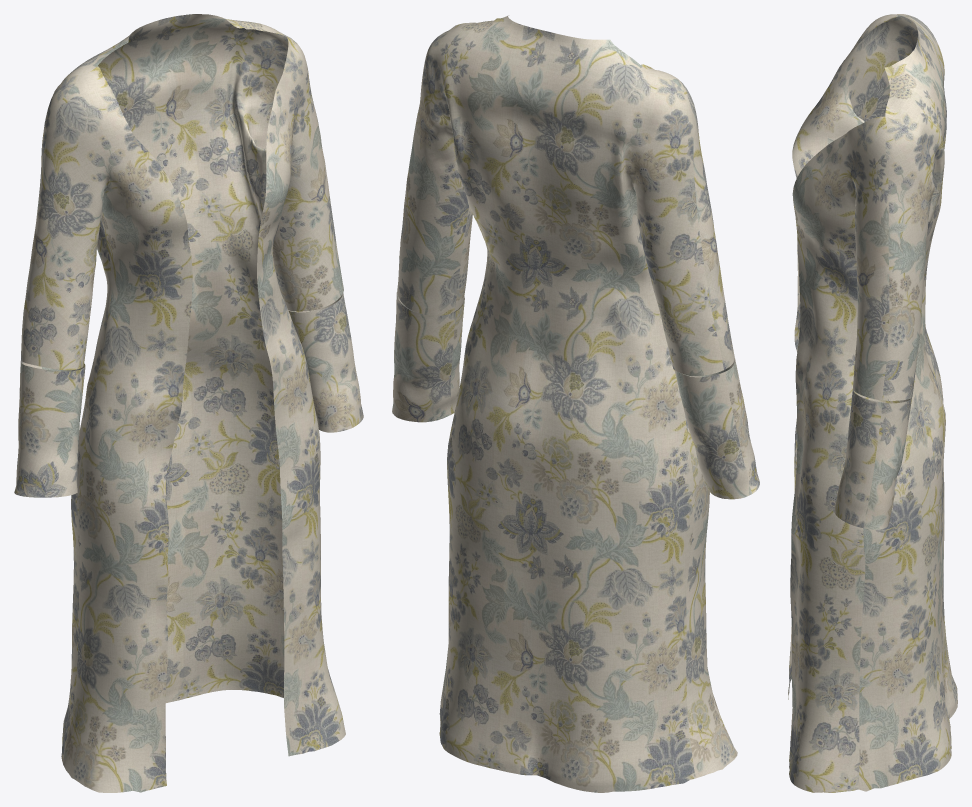
The model's file is above_knee.glb.
3 views of the same model, side by side, from view 1: azimuth 30°, elevation 25°; view 2: azimuth 150°, elevation 25°; view 3: azimuth 270°, elevation 25° (orthographic). The views are drawn at different scales.
Visible parts, largest first — view 1: Long_Inner_without vents; view 2: Long_Inner_without vents; view 3: Long_Inner_without vents.
Part boxes in pixels (x1,y1,x2,y2): Long_Inner_without vents: (14,14,363,792); Long_Inner_without vents: (392,15,759,792); Long_Inner_without vents: (788,14,957,792).
Bounding box in the file's own units: 55.47 × 109 × 23.92.
Materials: 1 (1 with a texture image).
